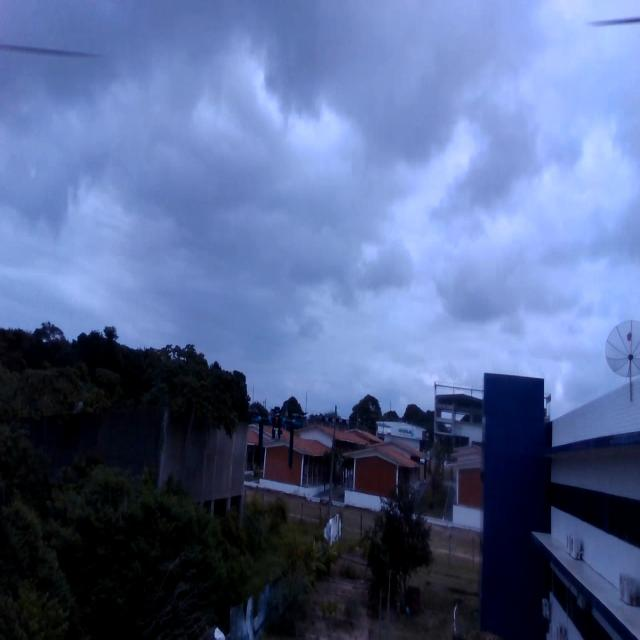-uav-: (237, 387, 315, 483)
